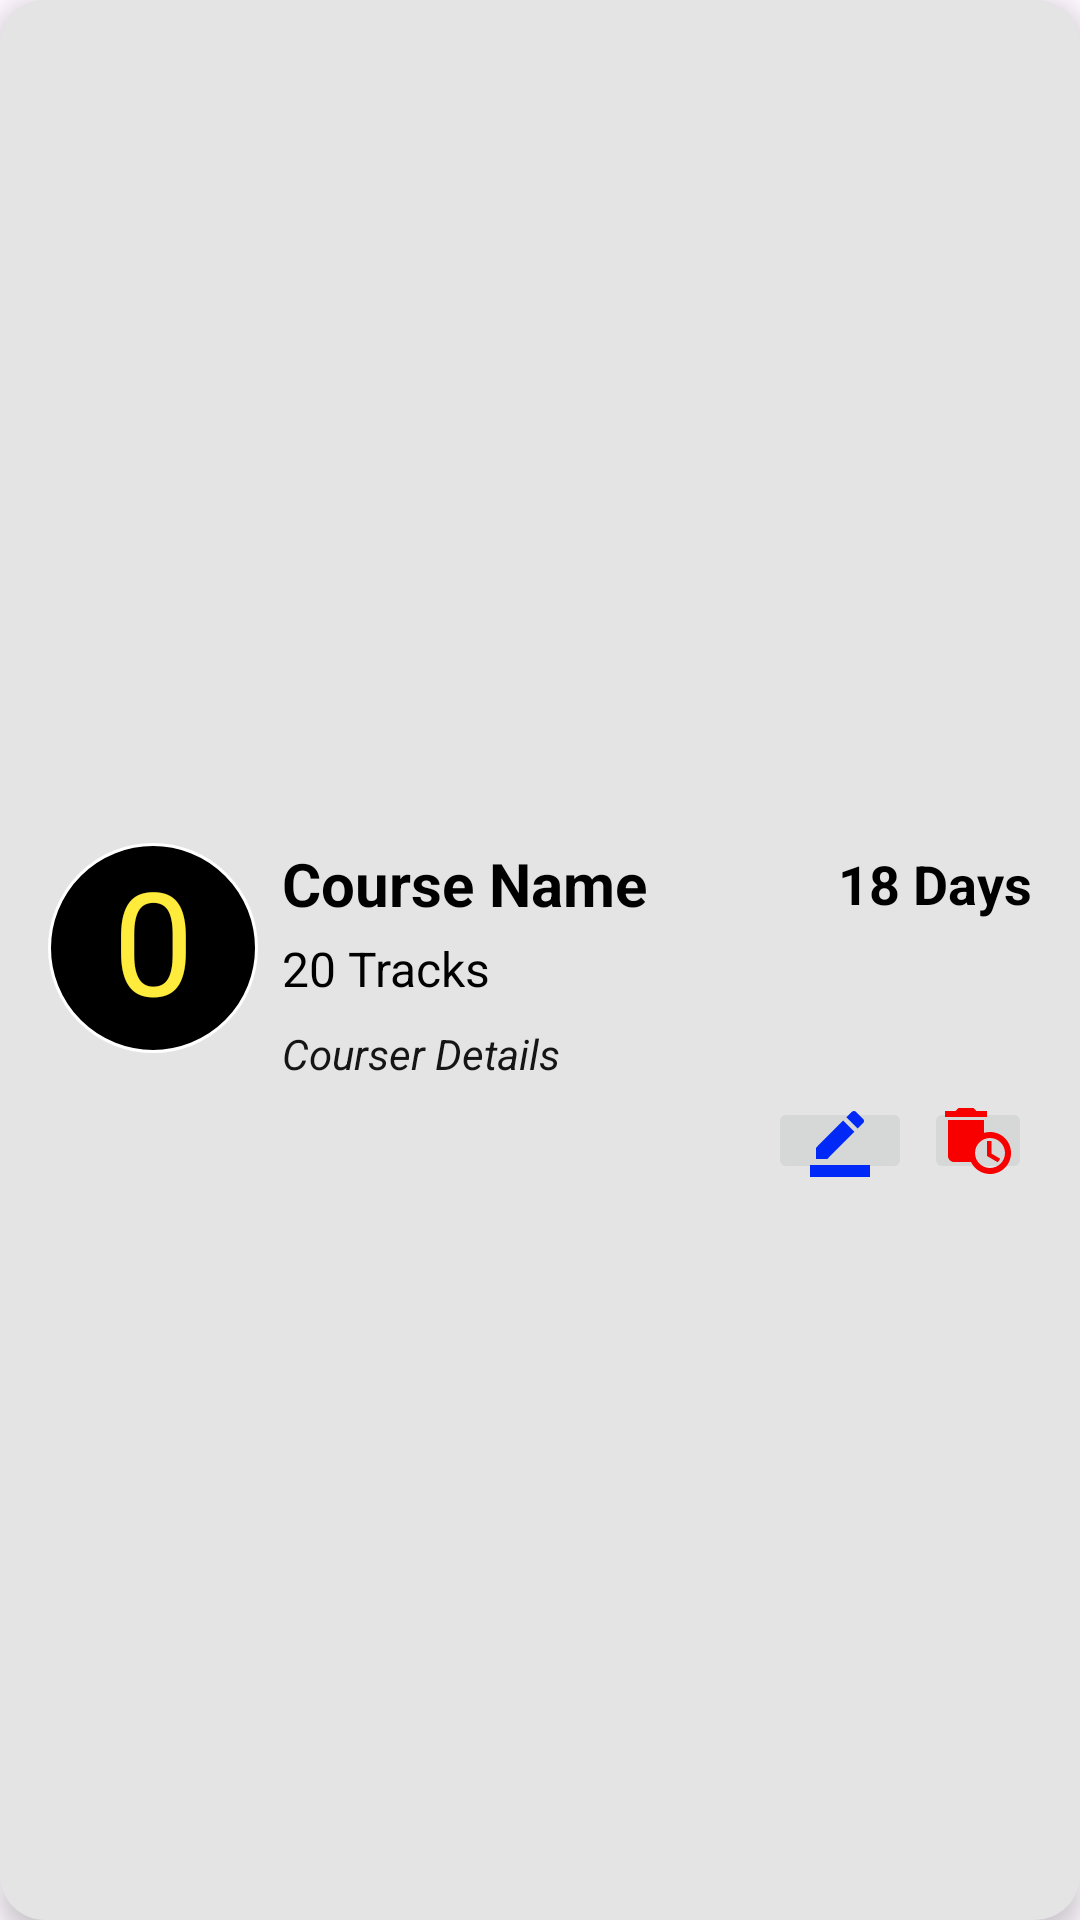

Named icons in this screenshot (1080 x 1920) and their centers, point (x, y):
auto delete: point (978, 1141)
border: point (840, 1144)
